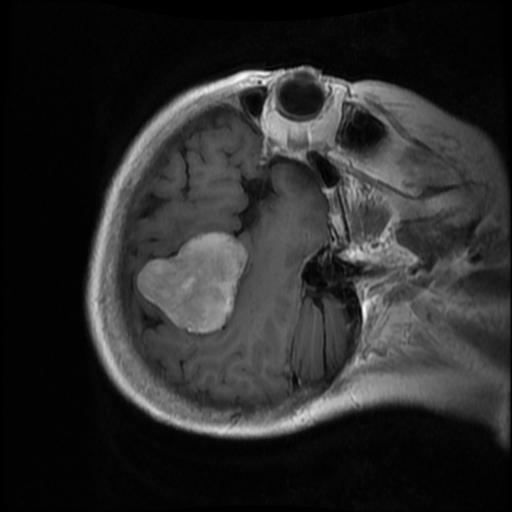meningioma: (136, 231, 250, 335)
